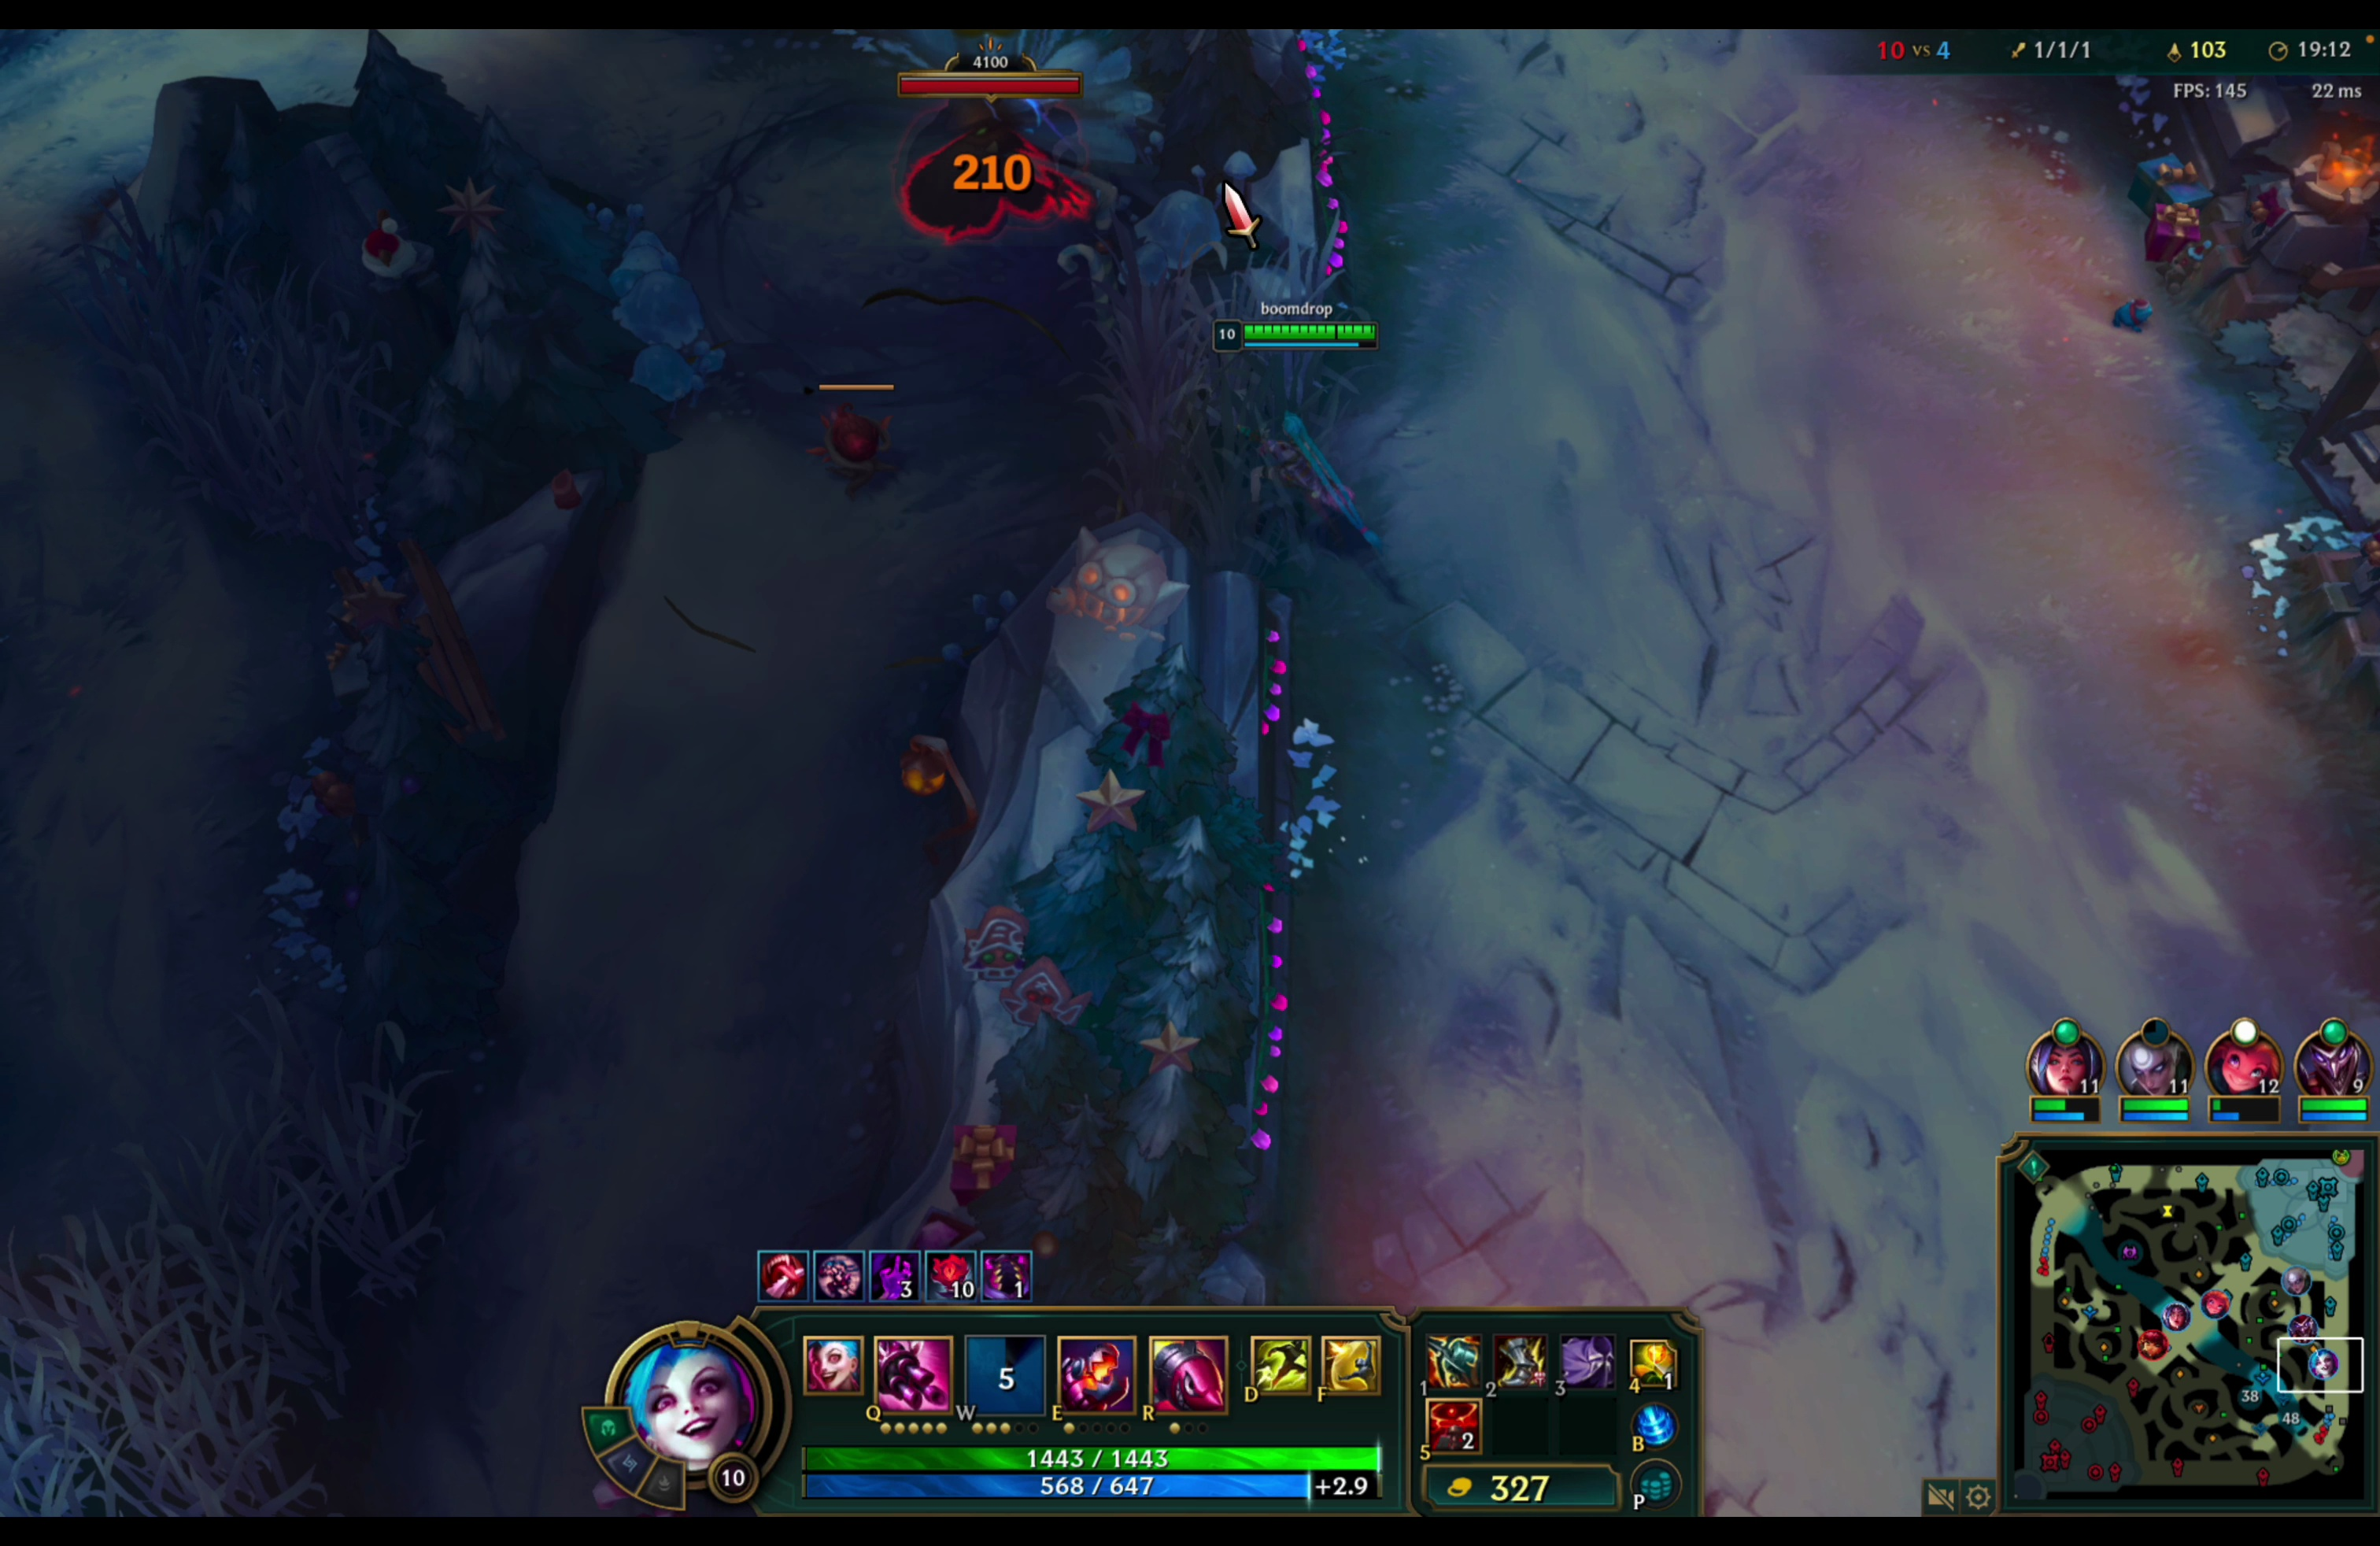JINX_W_IMPACT: (852, 33, 1117, 269)
